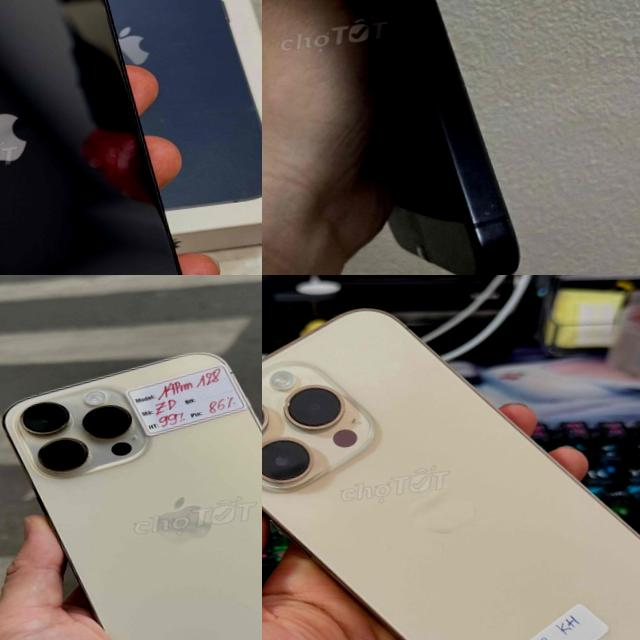gen_12_13: (0, 0, 205, 275)
gen_14: (262, 275, 640, 640), (0, 326, 262, 640)
gen_15: (262, 0, 554, 275)
